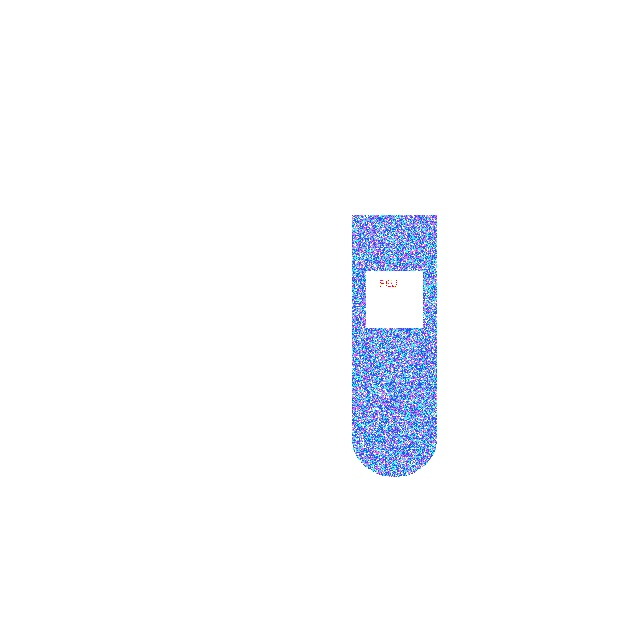Extincteur: (310, 215, 478, 439)
